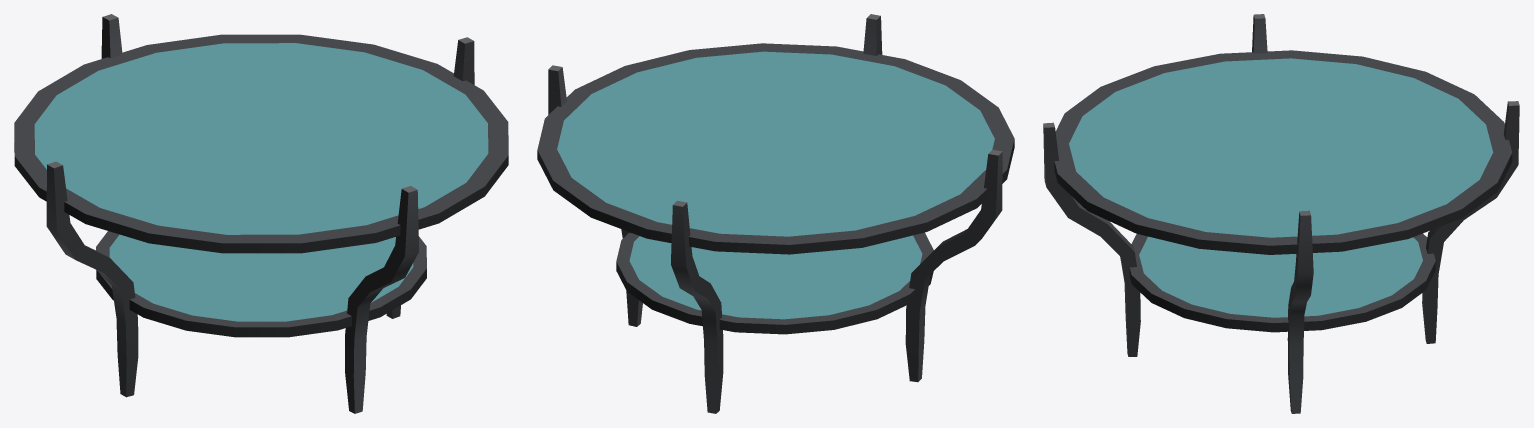
File: SM_TableCircleDoubleBigBlueBlack_01.fbx
3 views of the same model, side by side, from view 1: azimuth 30°, elevation 25°; view 2: azimuth 150°, elevation 25°; view 3: azimuth 270°, elevation 25° (orthographic). The views are drawn at different scales.
Visible parts, largest first — view 1: SM_TableCircleDoubleBigBlueBlack_01; view 2: SM_TableCircleDoubleBigBlueBlack_01; view 3: SM_TableCircleDoubleBigBlueBlack_01.
Boxes of the visible parts, left/top/right/bottom form: SM_TableCircleDoubleBigBlueBlack_01: left=14, top=14, right=508, bottom=413; SM_TableCircleDoubleBigBlueBlack_01: left=537, top=14, right=1014, bottom=413; SM_TableCircleDoubleBigBlueBlack_01: left=1043, top=14, right=1519, bottom=413.
Bounding box in the file's own units: 113 × 60.91 × 112.
